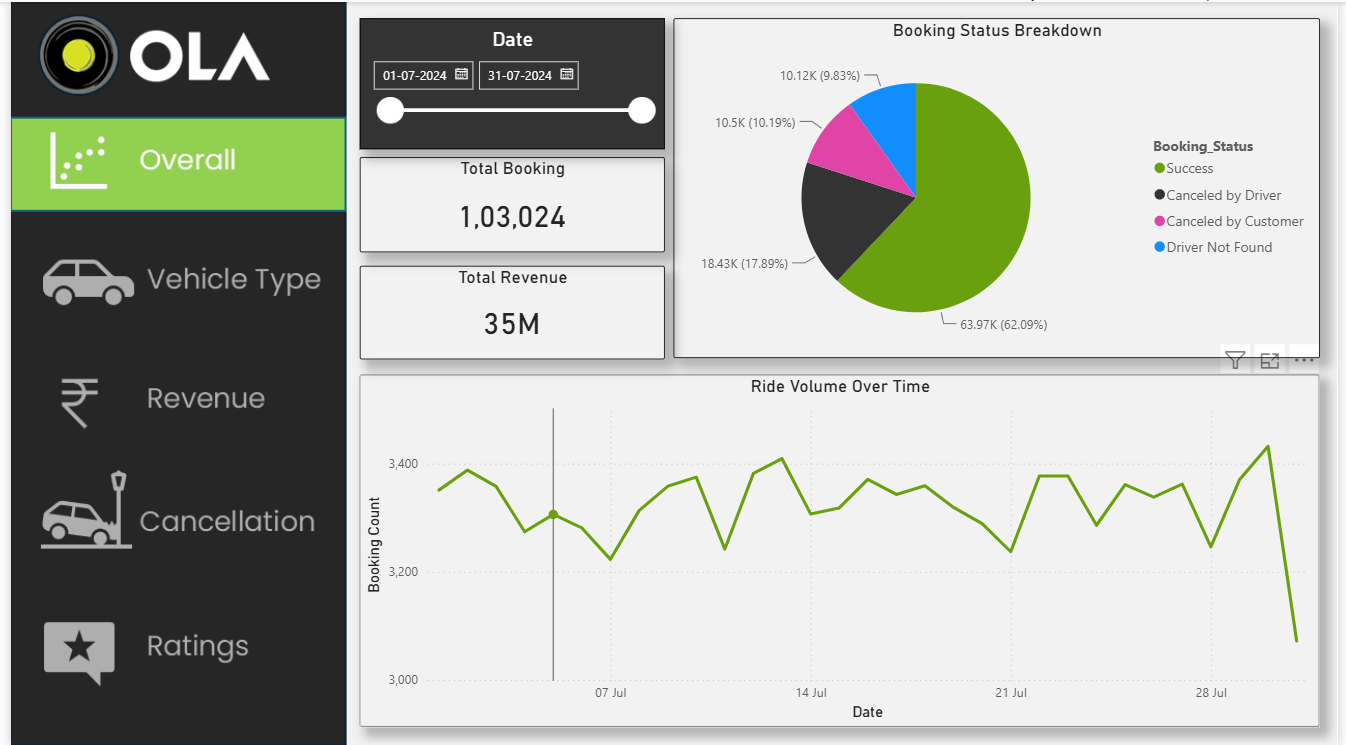

Layout of this report page (visuals, bound fields, positions):
{"tool":"powerbi","page":{"name":"Overall","canvas":[1280,720],"ordinal":0},"visuals":[{"type":"actionButton","box":[0,219.2,324.4,91],"z":0},{"type":"actionButton","box":[0,446.2,324.4,87.2],"z":1000},{"type":"actionButton","box":[0,579.5,324.4,87.2],"z":2000},{"type":"actionButton","box":[0,337.2,324.4,87.2],"z":3000},{"type":"lineChart","title":"Ride Volume Over Time","fields":{"Y":["CountNonNull(Bookings-100000-Rows.Booking_ID)"],"Category":["Bookings-100000-Rows.Date"]},"box":[336.7,360,926.7,340],"z":4000},{"type":"pieChart","title":"Booking Status Breakdown","fields":{"Y":["CountNonNull(Bookings-100000-Rows.Booking_ID)"],"Category":["Bookings-100000-Rows.Booking_Status"]},"box":[640,16,624,328],"z":5000},{"type":"slicer","title":"                   Date","fields":{"Values":["Bookings-100000-Rows.Date"]},"box":[336,16,294,126],"z":6000},{"type":"card","title":"Total Booking ","fields":{"Values":["CountNonNull(Bookings-100000-Rows.Booking_ID)"]},"box":[337,150,294,92],"z":7000},{"type":"card","title":"Total Revenue","fields":{"Values":["Sum(Bookings-100000-Rows.Booking_Value)"]},"box":[337,254,294,90],"z":8000}]}

Visuals, with their boxes on the page's 1280x720 design canvas (x1, y1, x2, y2). These are canvas units, not pixel positions in the 1346x745 screenshot, which may show the page scaled, cropped or inside an application window:
actionButton: 0, 219, 324, 310
actionButton: 0, 446, 324, 533
actionButton: 0, 580, 324, 667
actionButton: 0, 337, 324, 424
"Ride Volume Over Time" lineChart: 337, 360, 1263, 700
"Booking Status Breakdown" pieChart: 640, 16, 1264, 344
"                   Date" slicer: 336, 16, 630, 142
"Total Booking " card: 337, 150, 631, 242
"Total Revenue" card: 337, 254, 631, 344
